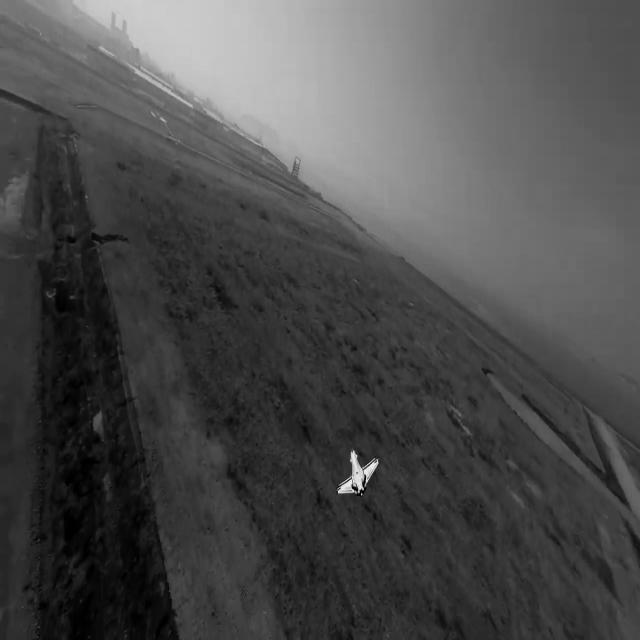iha: (336, 453, 378, 497)
